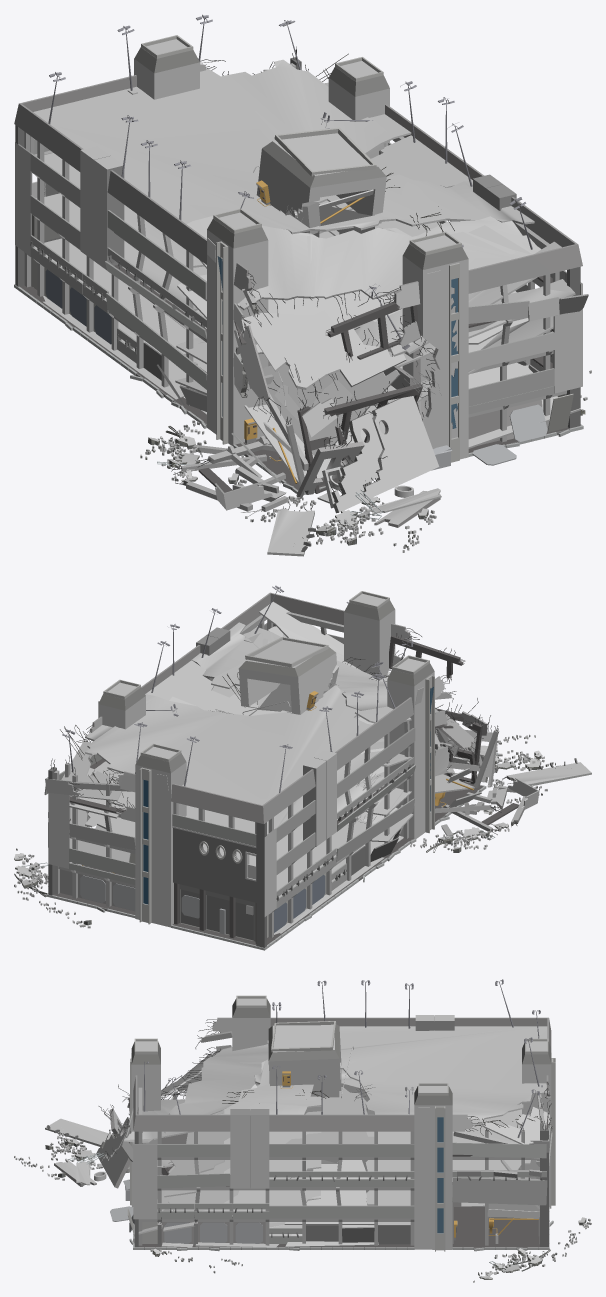
Rendered from building03.FBX.
The picture shows the model from 3 angles, top to bottom: view 1: azimuth 30°, elevation 25°; view 2: azimuth 150°, elevation 25°; view 3: azimuth 270°, elevation 25°; orthographic projection. The views are drawn at different scales.
Parts seen in each view (by area): view 1: Level, Garage, MWreck, OvalPart1, Wreck5, MAST, Wreck4, Ovalpart2; view 2: Garage, Level, MWreck, MAST, Wreck5, Wreck4, Wreck1, Ovalpart2, Wire1; view 3: Garage, Level, MWreck, MAST, OvalPart1, Wreck5, Wreck1, Wire1.
Part boxes in pixels (<box>): Level: <box>33,59,580,483</box>; Garage: <box>14,35,583,527</box>; MWreck: <box>168,59,588,556</box>; OvalPart1: <box>328,396,439,513</box>; Wreck5: <box>228,473,436,552</box>; MAST: <box>48,14,532,349</box>; Wreck4: <box>140,420,206,481</box>; Ovalpart2: <box>296,434,364,498</box>; Garage: <box>44,592,539,950</box>; Level: <box>61,601,474,934</box>; MWreck: <box>106,591,591,839</box>; MAST: <box>62,585,413,792</box>; Wreck5: <box>471,734,571,814</box>; Wreck4: <box>410,822,509,852</box>; Wreck1: <box>14,848,48,900</box>; Ovalpart2: <box>459,714,497,786</box>; Wire1: <box>60,659,380,823</box>; Garage: <box>54,998,555,1251</box>; Level: <box>124,1026,548,1249</box>; MWreck: <box>45,995,551,1219</box>; MAST: <box>143,979,542,1137</box>; OvalPart1: <box>96,1117,129,1188</box>; Wreck5: <box>14,1127,113,1180</box>; Wreck1: <box>473,1248,566,1282</box>; Wire1: <box>116,1084,539,1136</box>.
Size of the model in its own units: 240 by 143 by 362.
